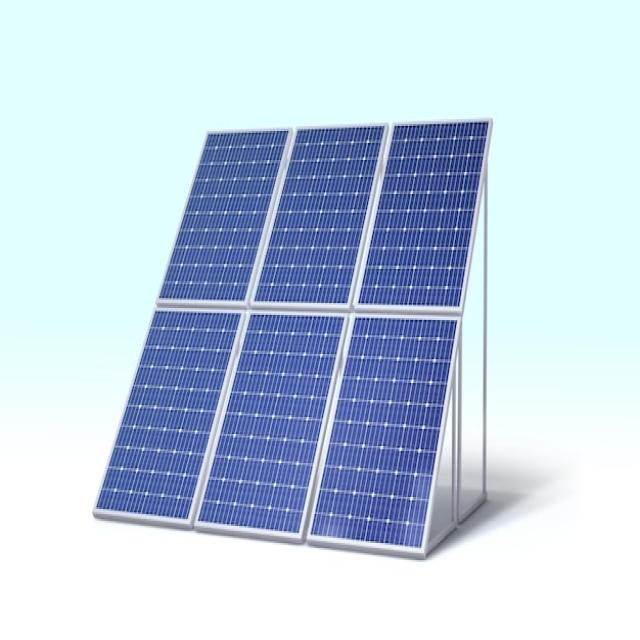clean-solar-panel: (95, 121, 491, 556)
